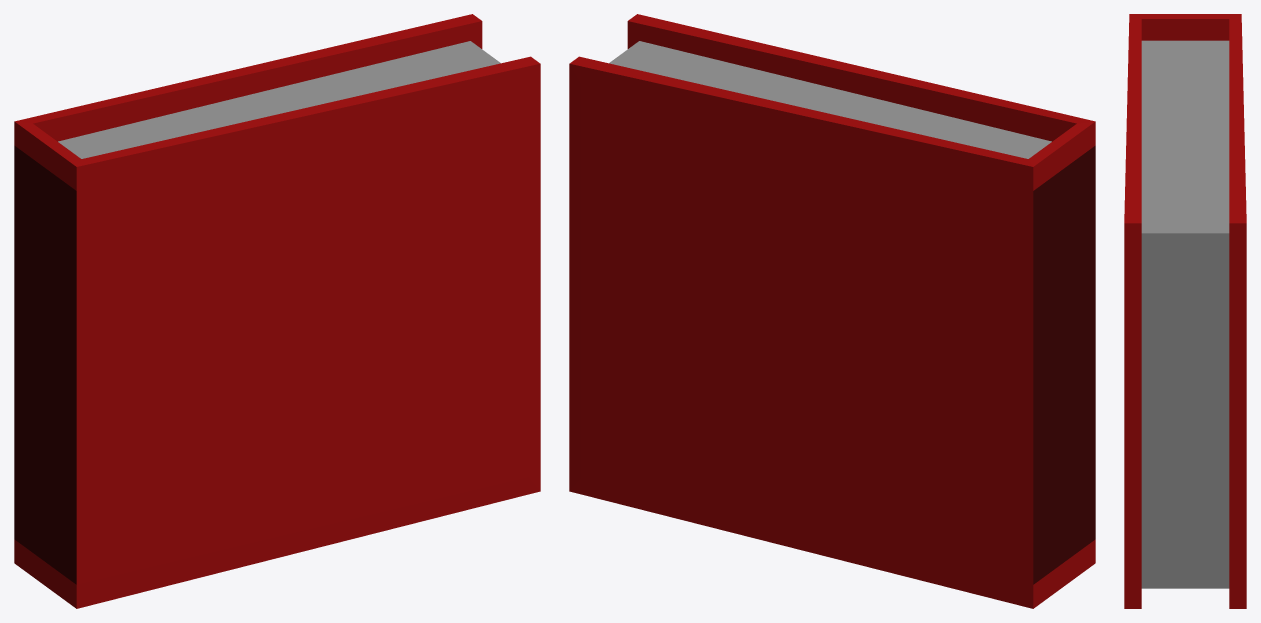
The model's file is OneBook.FBX.
3 views of the same model, side by side, from view 1: azimuth 30°, elevation 25°; view 2: azimuth 150°, elevation 25°; view 3: azimuth 270°, elevation 25° (orthographic). The views are drawn at different scales.
Parts seen in each view (by area): view 1: Box001; view 2: Box001; view 3: Box001.
Boxes of the visible parts, x1=… form: Box001: x1=14, y1=14, x2=540, y2=608; Box001: x1=569, y1=14, x2=1095, y2=608; Box001: x1=1124, y1=14, x2=1246, y2=608.
Bounding box in the file's own units: 48.9 × 44.8 × 12.48.
